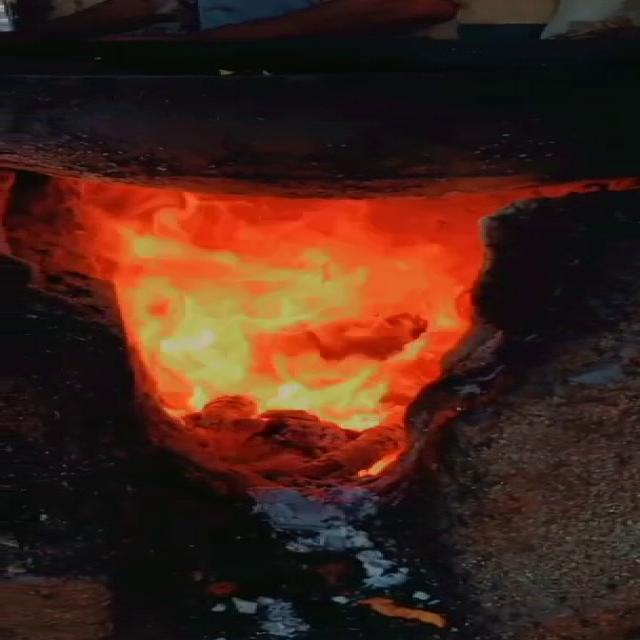Fire: (0, 166, 560, 489)
